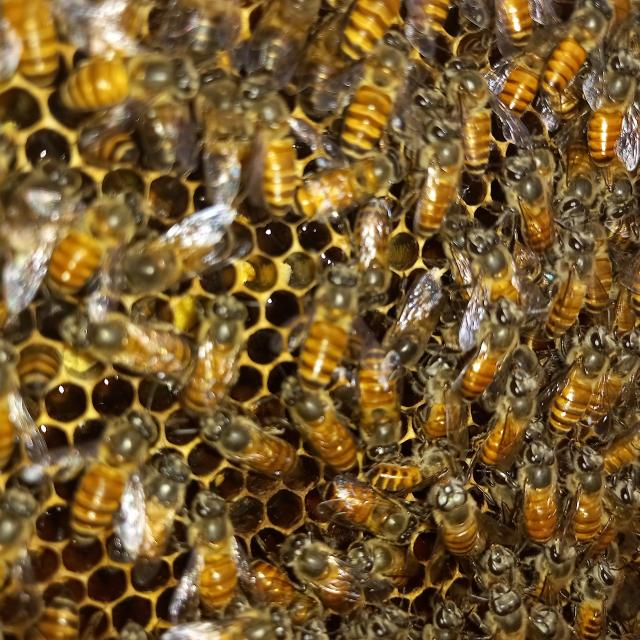honeybee: (82, 265, 188, 413), (126, 84, 229, 204), (68, 421, 160, 554), (126, 210, 238, 312), (424, 447, 511, 560), (186, 286, 278, 392), (387, 256, 466, 376), (94, 304, 180, 411), (288, 514, 408, 590), (473, 340, 545, 464), (0, 302, 73, 424), (494, 20, 576, 128), (302, 248, 370, 374), (169, 0, 246, 109), (340, 143, 409, 263), (284, 387, 381, 471), (49, 204, 135, 298), (565, 152, 635, 267), (208, 417, 300, 503), (436, 208, 518, 302), (60, 51, 137, 150), (449, 51, 514, 167), (528, 560, 622, 640), (567, 430, 620, 571), (11, 154, 81, 259), (355, 366, 413, 486), (346, 567, 441, 640), (318, 0, 419, 68), (473, 276, 522, 415), (516, 152, 571, 274), (34, 564, 121, 640), (308, 146, 413, 208), (554, 297, 601, 432), (188, 486, 236, 618), (197, 88, 259, 186), (252, 556, 323, 640), (441, 556, 509, 640), (576, 66, 624, 182), (255, 100, 295, 229), (434, 0, 509, 68), (338, 58, 396, 141), (267, 0, 319, 92), (514, 434, 558, 518)
